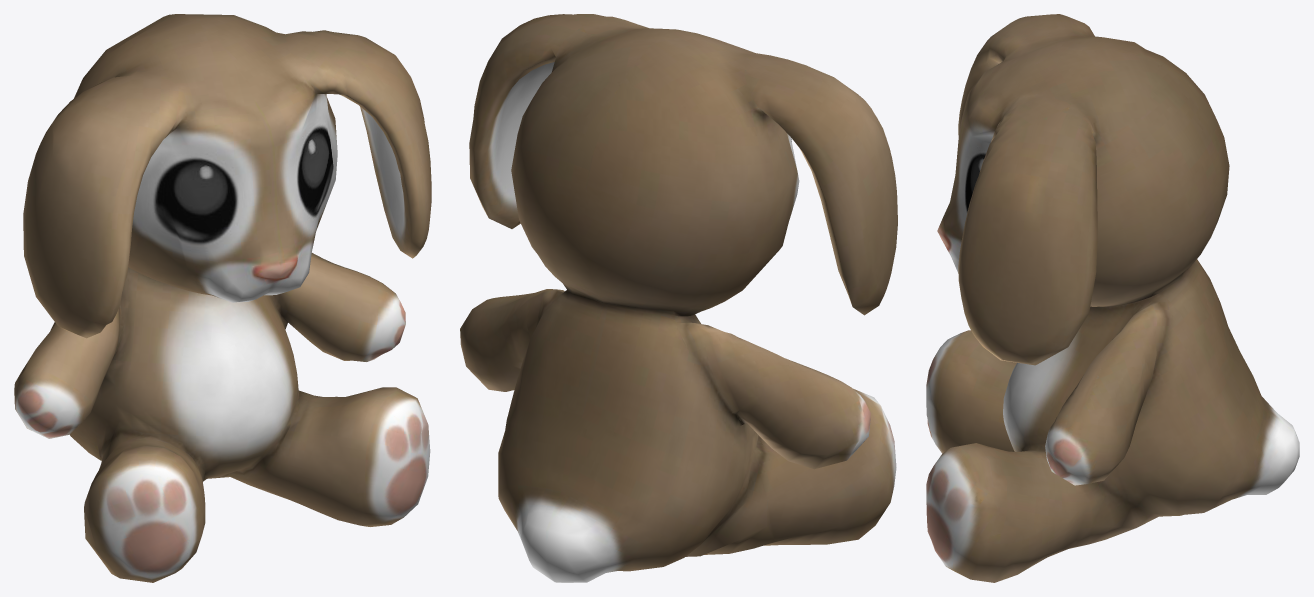
The model's file is bunny.glb.
3 renders of one model, left to right at view 1: azimuth 30°, elevation 25°; view 2: azimuth 150°, elevation 25°; view 3: azimuth 270°, elevation 25°, orthographic. The views are drawn at different scales.
Visible parts, largest first — view 1: bunny; view 2: bunny; view 3: bunny.
Boxes of the visible parts, box(x1,y1,x2,y2) form: bunny: box(14, 14, 431, 582); bunny: box(460, 14, 897, 582); bunny: box(926, 14, 1299, 582).
Size of the model in its own units: 0.2843 by 0.3445 by 0.2462.
Materials: 1 (1 with a texture image).
